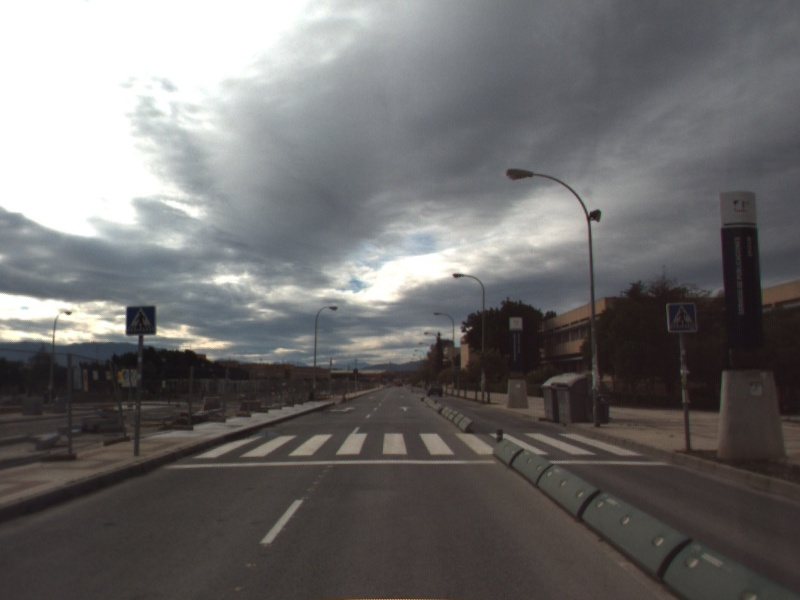STRAIGHT: (398, 404, 412, 413)
STRAIGHT_LEFT: (327, 404, 358, 414)
